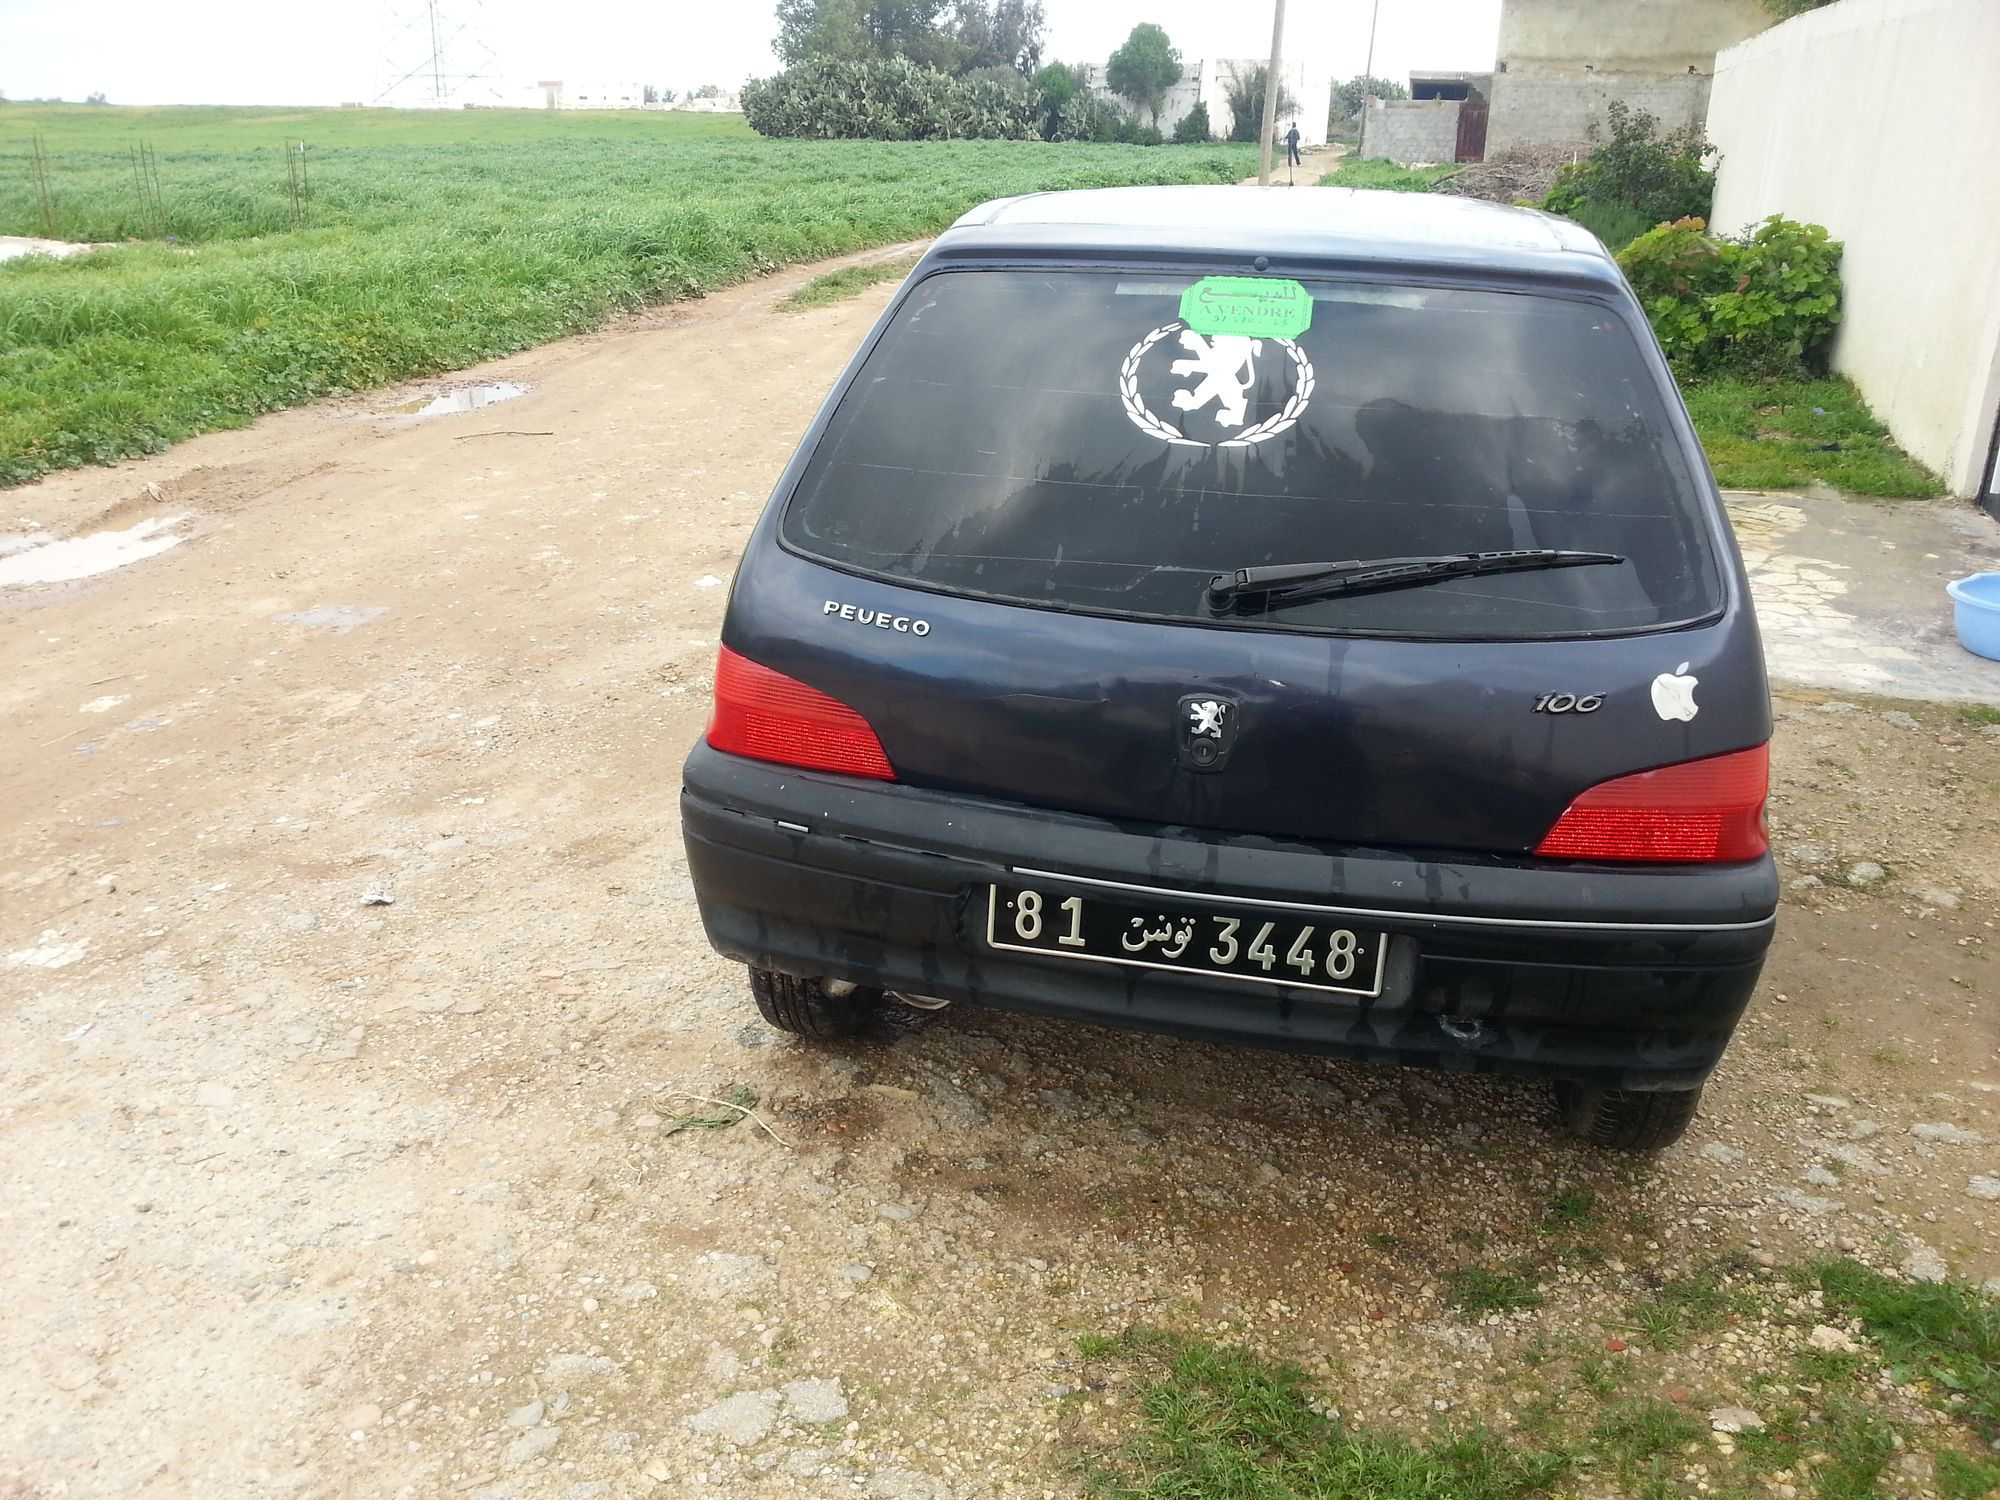LP: (985, 865, 1387, 996)
